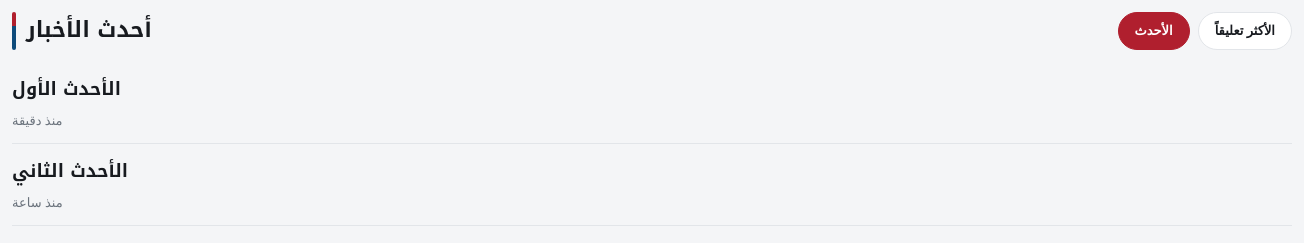
Test case: LatestNewsTabs › survives an empty side without collapsing the block
Click the button "الأكثر تعليقاً" at (1245, 31), box top-left (1198, 12), bottom-right (1292, 50)
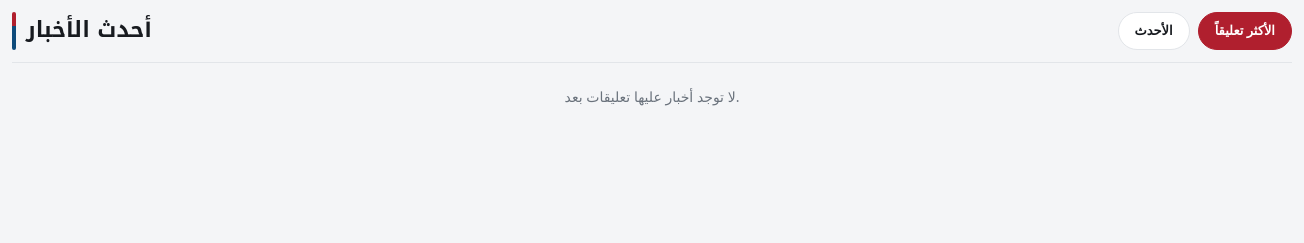
Expected: the heading "أحدث الأخبار" is shown, top-left (26, 14), bottom-right (152, 47)
Expected: the link "الأحدث الأول" is gone
